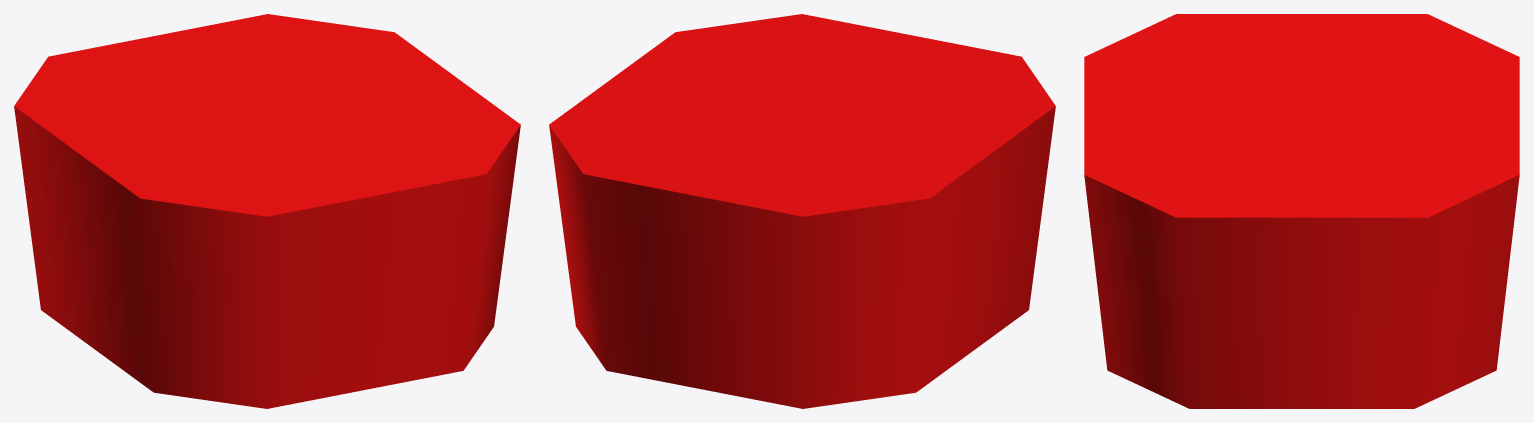
File: cha03_waiter_mu.FBX
3 views of the same model, side by side, from view 1: azimuth 30°, elevation 25°; view 2: azimuth 150°, elevation 25°; view 3: azimuth 270°, elevation 25° (orthographic).
Visible parts, largest first — view 1: Cha02_Waiter_mu; view 2: Cha02_Waiter_mu; view 3: Cha02_Waiter_mu.
Part boxes in pixels (x1=…): Cha02_Waiter_mu: x1=14, y1=14, x2=520, y2=408; Cha02_Waiter_mu: x1=549, y1=14, x2=1055, y2=408; Cha02_Waiter_mu: x1=1084, y1=14, x2=1519, y2=408.
Bounding box in the file's own units: 0.5456 × 0.3027 × 0.5432.
